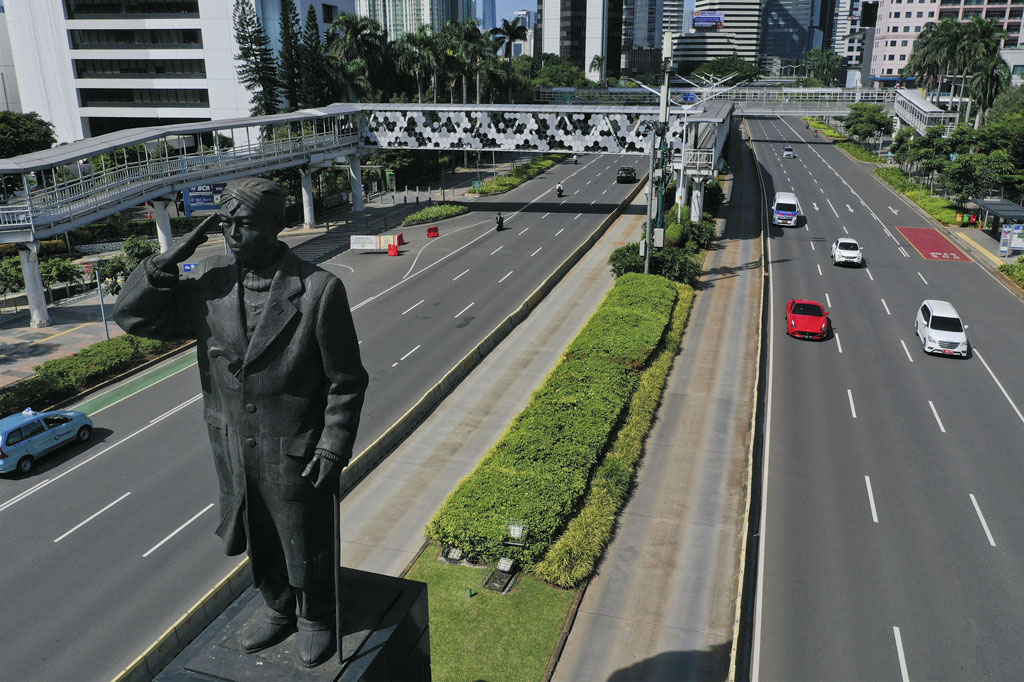car: (1, 405, 96, 480), (914, 300, 968, 362), (784, 298, 830, 345), (772, 190, 800, 229), (831, 238, 867, 268), (617, 165, 638, 183), (783, 146, 793, 158)
motorbike: (494, 212, 505, 232), (556, 182, 564, 198)
